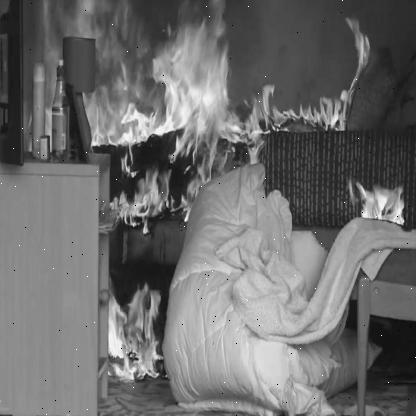fire: (16, 0, 371, 386), (351, 176, 406, 232)
